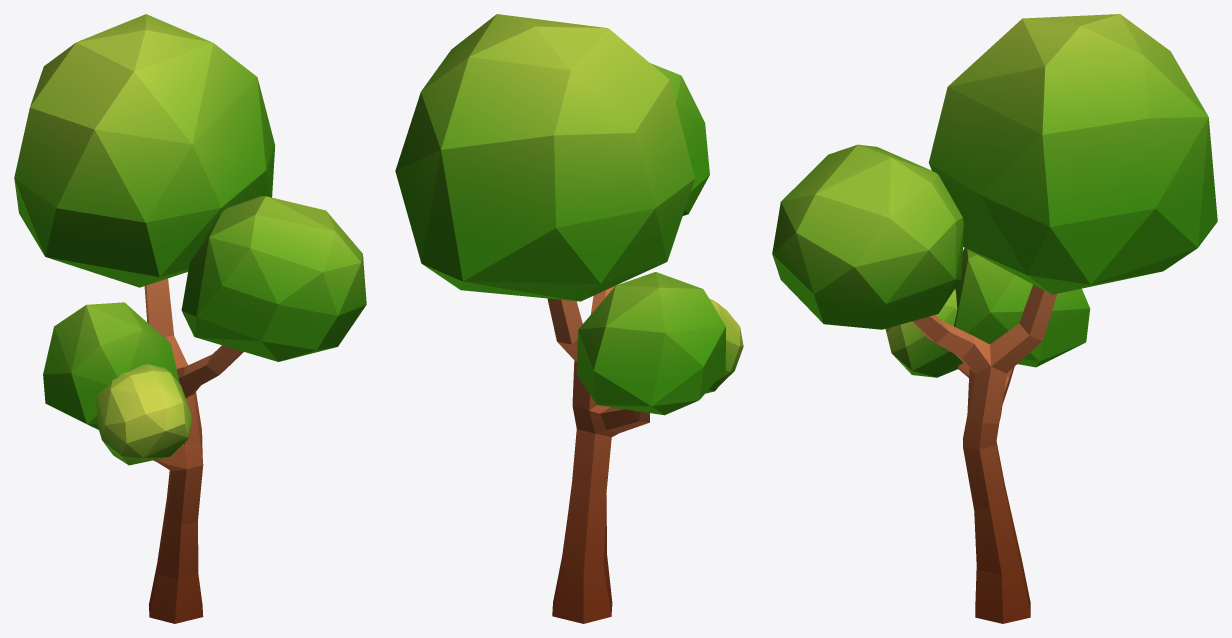
File: Tree5.fbx
The picture shows the model from 3 angles, left to right: view 1: azimuth 30°, elevation 25°; view 2: azimuth 150°, elevation 25°; view 3: azimuth 270°, elevation 25°; orthographic projection. The views are drawn at different scales.
Visible parts, largest first — view 1: tree_B3; view 2: tree_B3; view 3: tree_B3.
Part boxes in pixels (left/top/right/bottom): tree_B3: left=14, top=14, right=366, bottom=623; tree_B3: left=395, top=14, right=743, bottom=623; tree_B3: left=772, top=14, right=1217, bottom=623.
Size of the model in its own units: 106 by 231 by 159.
